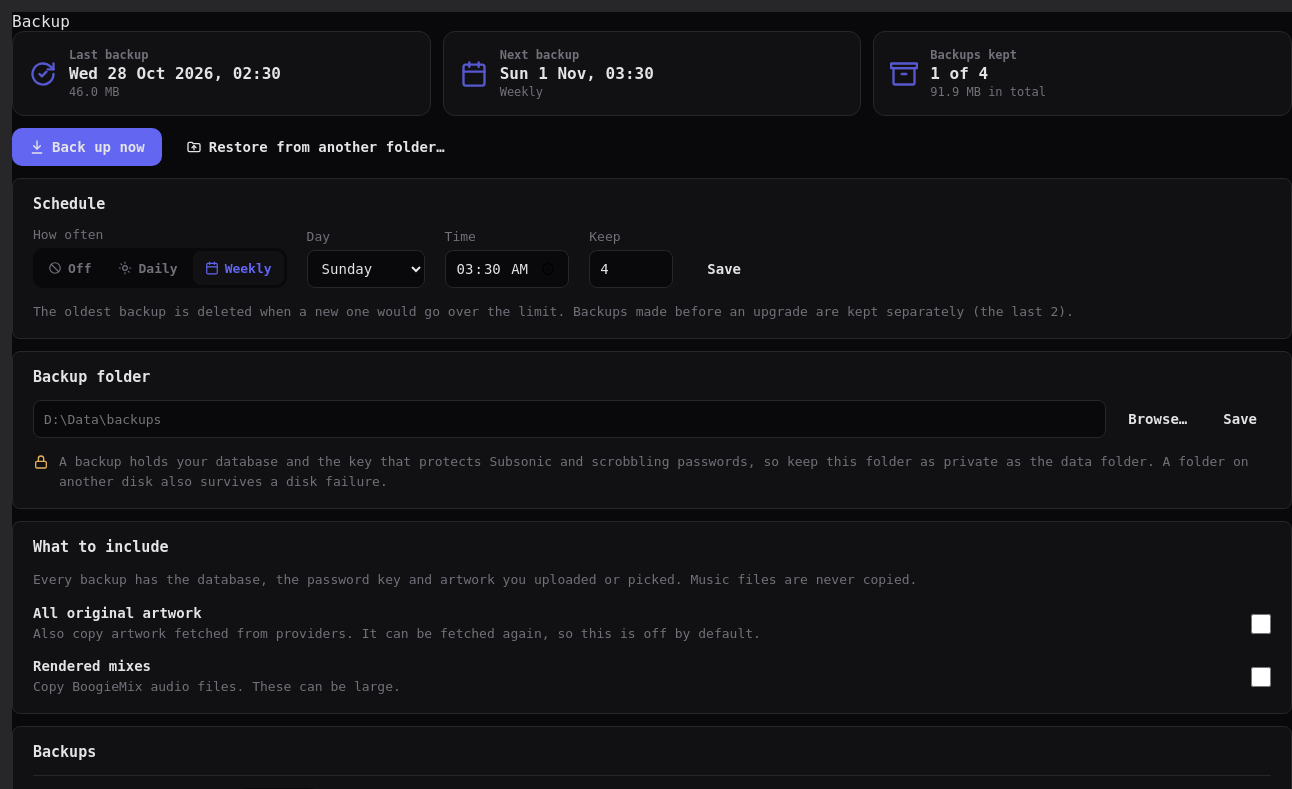
Test: BackupSettingsSection › saves the schedule
Click the button "Daily": (148, 268) [106,251,190,285]
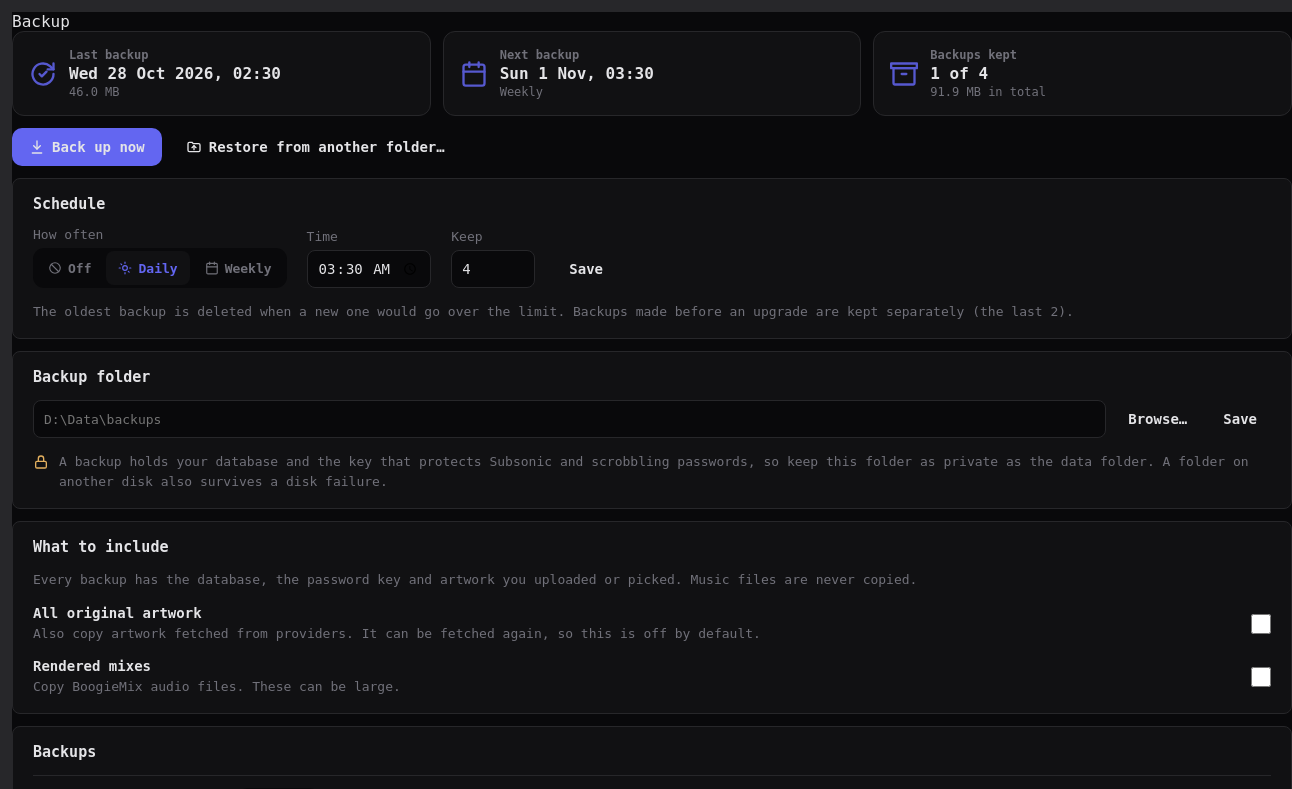
Expected: the label labelled "Day" is gone
Replace the text in the number field labelled "Keep" with "9": (493, 269) [451,250,535,288]
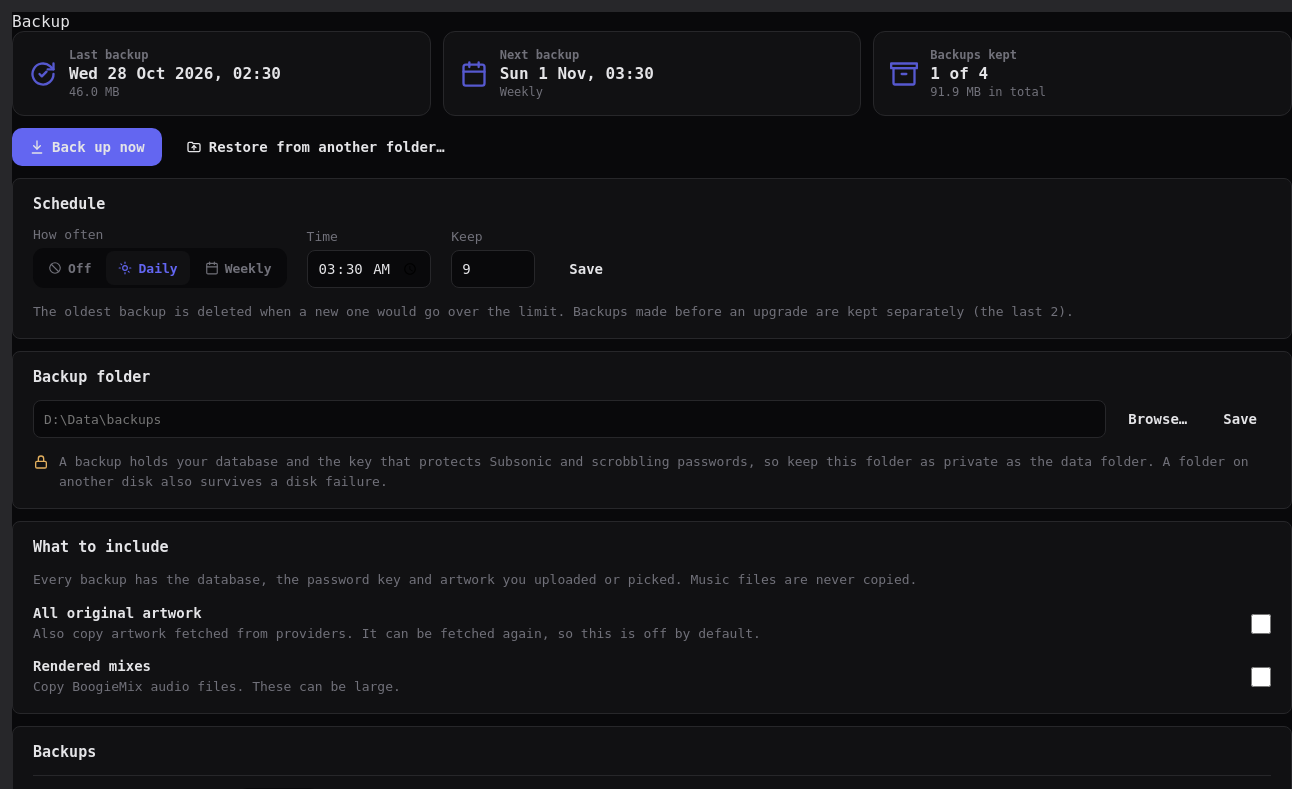
Click the button "Save" below "Time": (586, 269) [555,250,617,288]
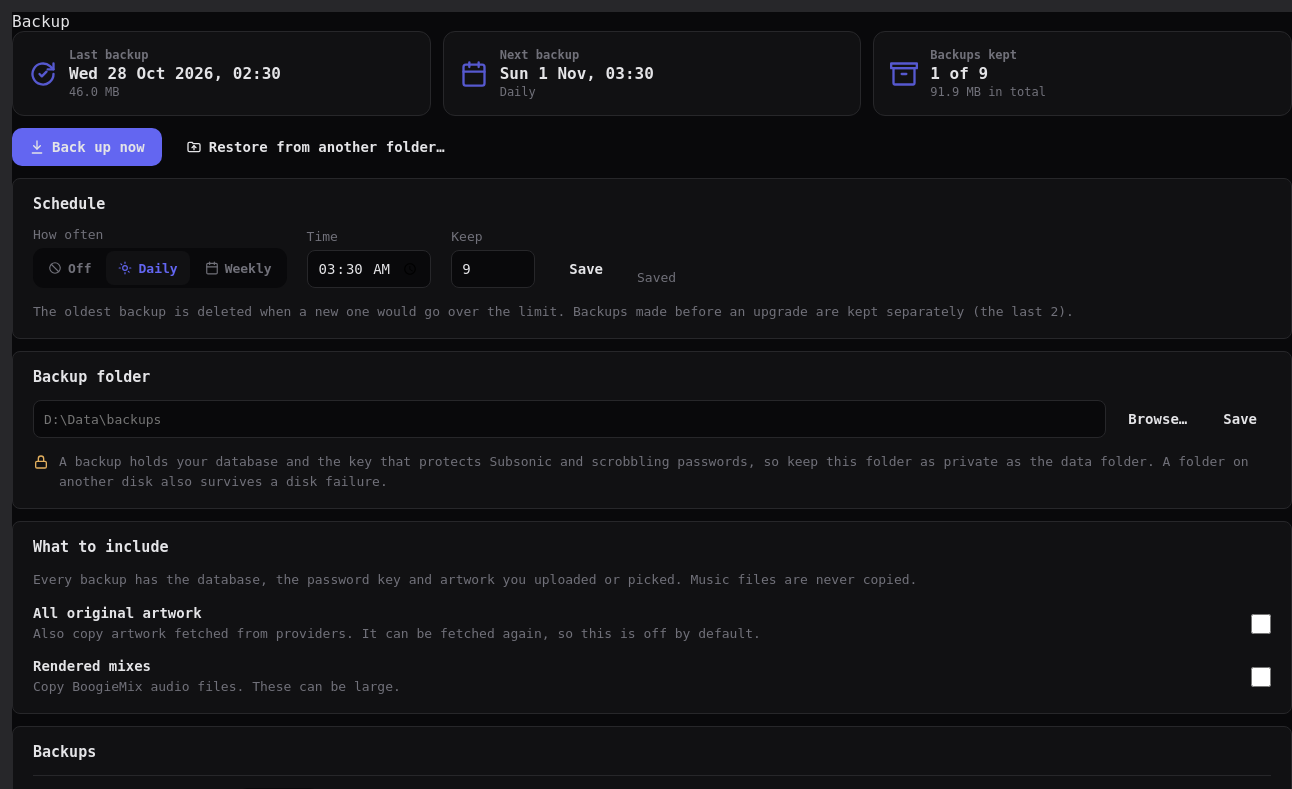
Expected: the text "Saved" is shown, [637,268,676,288]
